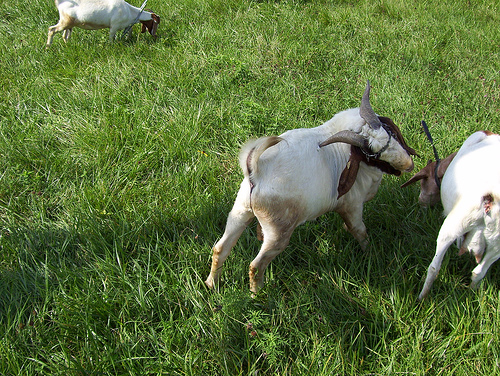goat: (203, 81, 421, 299), (402, 129, 500, 299), (46, 1, 161, 46)
